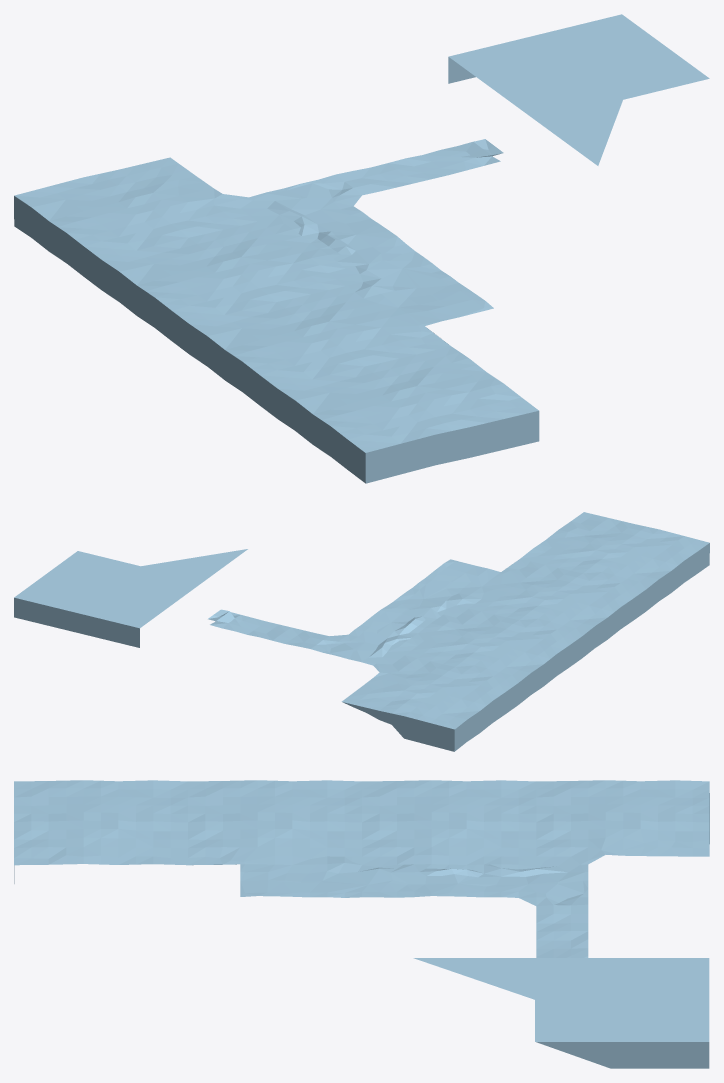
The model's file is energy-water.fbx.
3 renders of one model, top to bottom at view 1: azimuth 30°, elevation 25°; view 2: azimuth 150°, elevation 25°; view 3: azimuth 270°, elevation 25°, orthographic. The views are drawn at different scales.
Visible parts, largest first — view 1: energy-water; view 2: energy-water; view 3: energy-water.
Part boxes in pixels (x1,y1,x2,y2): energy-water: [14, 14, 709, 483]; energy-water: [14, 512, 709, 751]; energy-water: [14, 780, 709, 1068].
Size of the model in its own units: 21.08 by 2.13 by 21.13.
